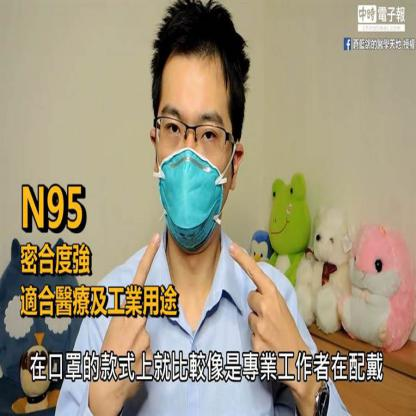Wearing_Mask: (155, 102, 231, 249)
